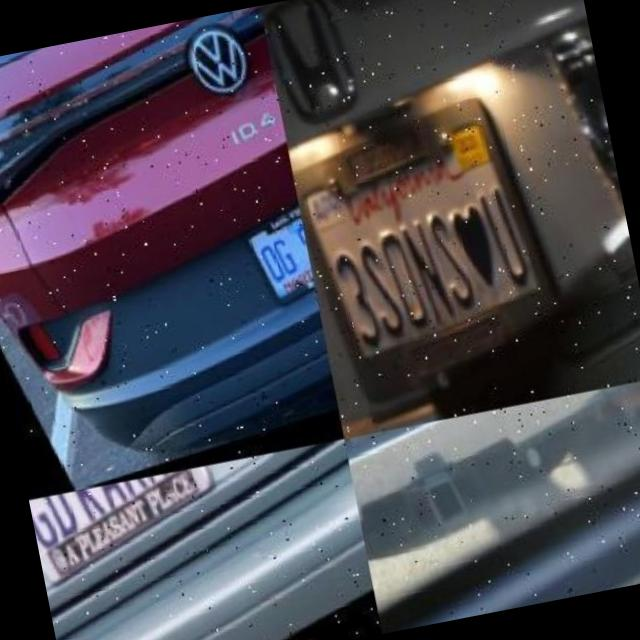LicensePlate: (284, 74, 584, 430), (29, 466, 230, 613), (346, 416, 480, 509), (233, 207, 315, 315)
